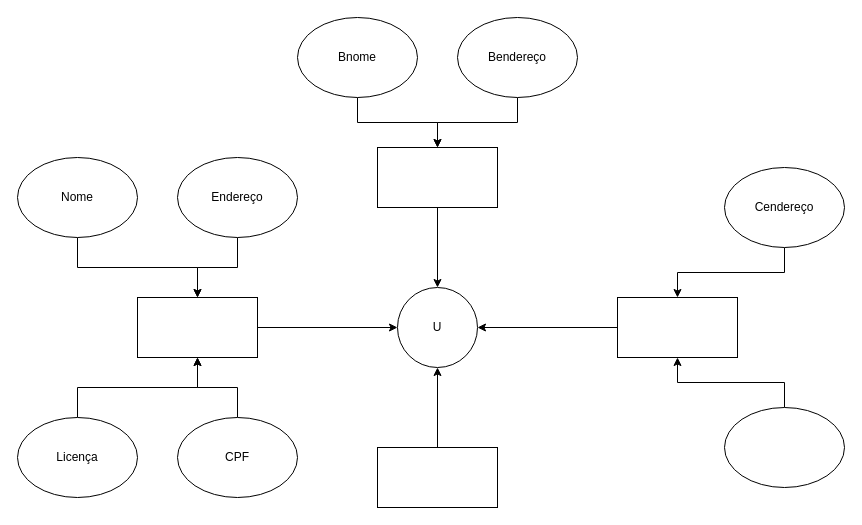
Some shapes in this 862 by 525 pixel diagram are drawn without their labels. Here are the shapes that lost their labels. From the top down, the box of each, then its label:
(376, 146, 498, 208): Banco
(136, 296, 258, 358): Pessoa
(616, 296, 738, 358): Companhia
(376, 446, 498, 508): Onwer
